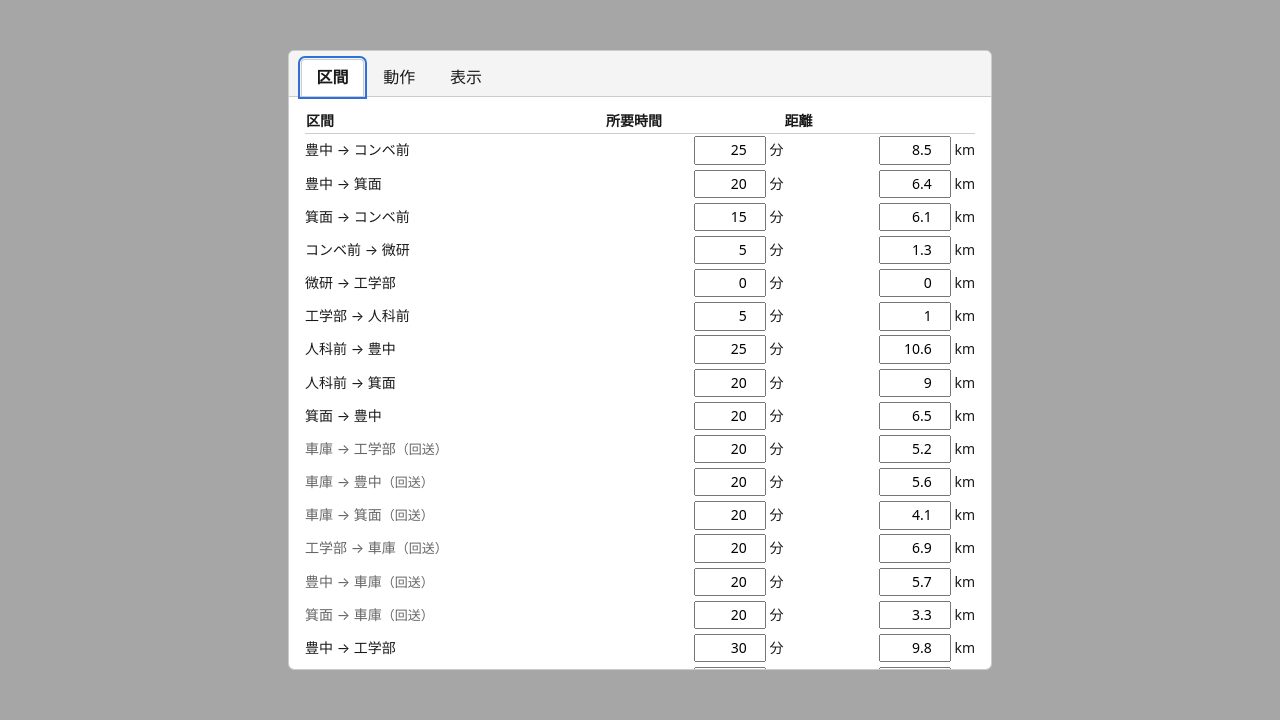
it: 停車パターンの色と線種 › **回送のパターンも並べる**（#179）
Click the tab "表示". click: (466, 78)
box: [435, 59, 497, 96]
(page scrolled)
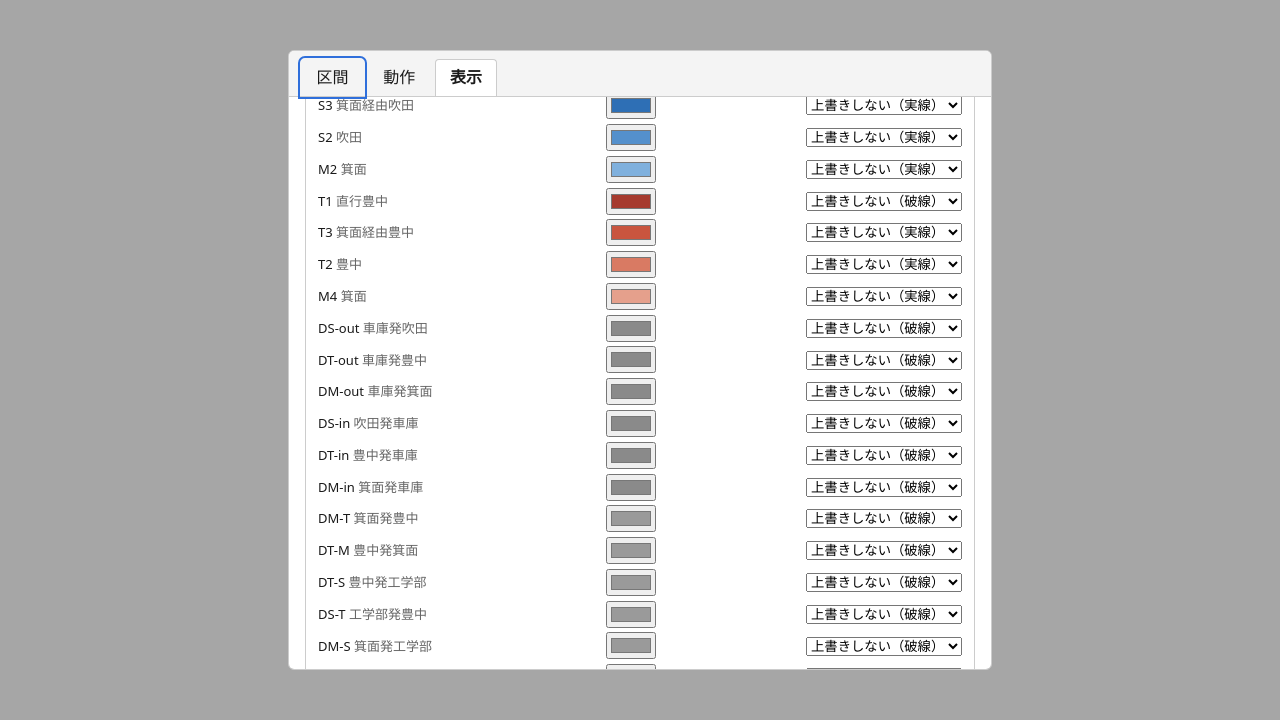
Now the dropdown named "DT-out の線種" is shown, box [806, 350, 962, 370]
Now the colour field named "DT-out の色" is shown, box [606, 346, 656, 373]
